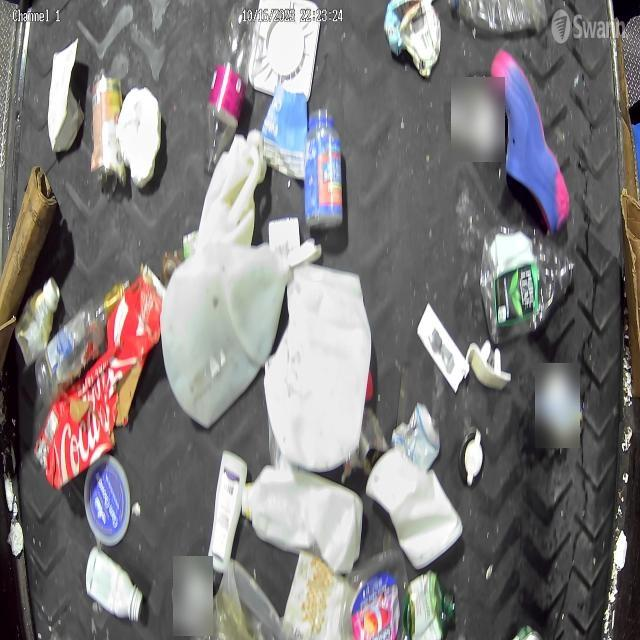milk_jug: (158, 235, 290, 422), (264, 262, 372, 472), (242, 465, 362, 577), (197, 128, 265, 250)
plastic_bottle: (35, 274, 131, 398), (480, 230, 576, 348), (204, 3, 254, 178)
